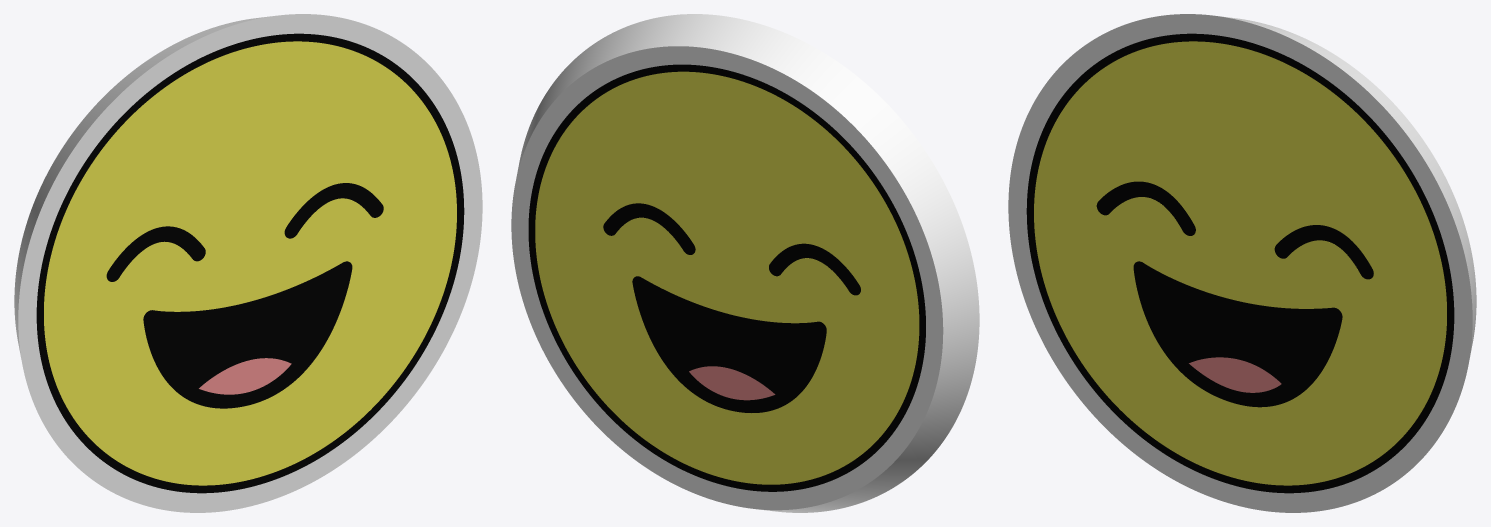
Rendered from 2smile.gltf.
3 views of the same model, side by side, from view 1: azimuth 30°, elevation 25°; view 2: azimuth 150°, elevation 25°; view 3: azimuth 330°, elevation 25° (orthographic).
Size of the model in its own units: 0.0905 by 0.0905 by 0.0068.
